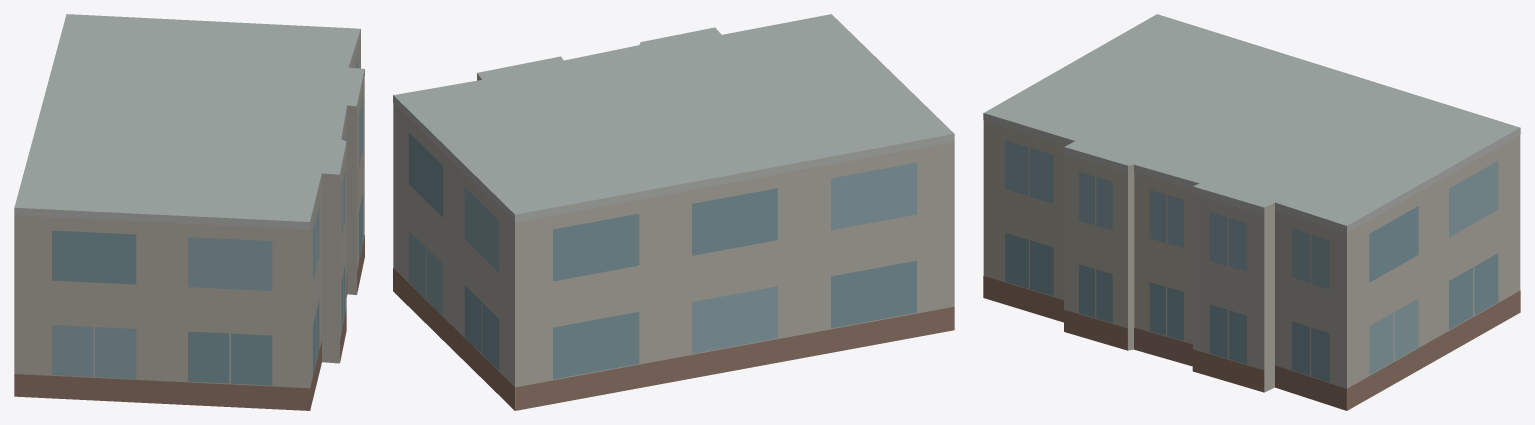
Rendered from survey-upis-32613210.glb.
3 views of the same model, side by side, from view 1: azimuth 30°, elevation 25°; view 2: azimuth 150°, elevation 25°; view 3: azimuth 270°, elevation 25° (orthographic). The views are drawn at different scales.
Visible parts, largest first — view 1: survey-upis-32613210.tmp; view 2: survey-upis-32613210.tmp; view 3: survey-upis-32613210.tmp.
Boxes of the visible parts, x1,y1,x2,y2 form: survey-upis-32613210.tmp: (14,14,364,410); survey-upis-32613210.tmp: (393,14,954,410); survey-upis-32613210.tmp: (983,14,1520,410).
Bounding box in the file's own units: 15 × 6.1 × 16.06.
